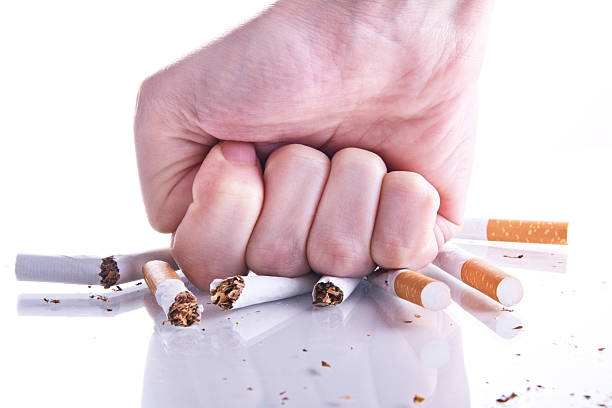cigarette: (13, 245, 181, 289), (432, 240, 524, 308), (208, 272, 320, 312), (142, 259, 202, 330), (368, 266, 453, 311), (450, 218, 575, 246), (310, 274, 365, 311)
